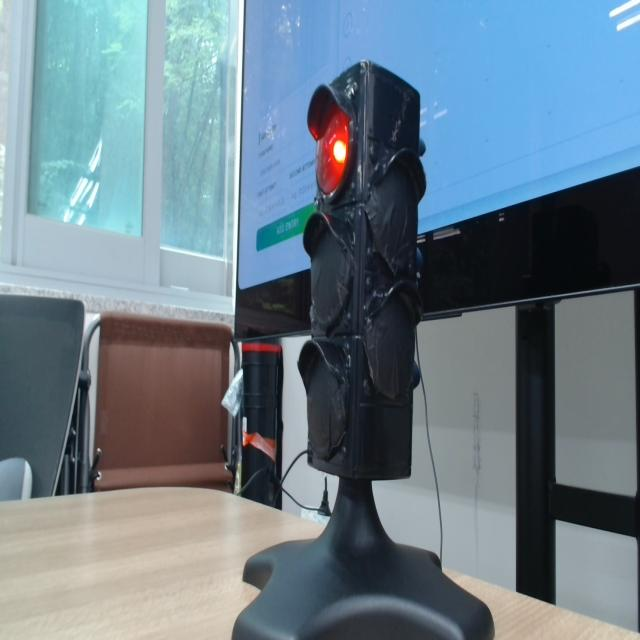red_light: (316, 103, 350, 194), (333, 140, 346, 164)
